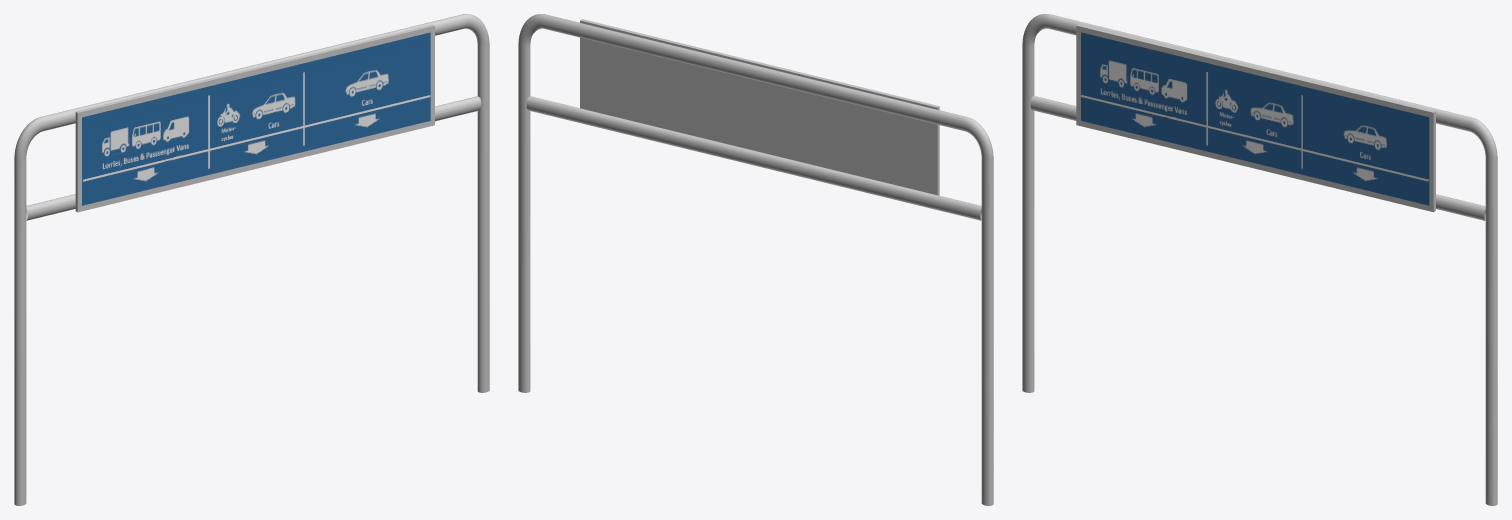
The model's file is overheadSignboard.fbx.
3 views of the same model, side by side, from view 1: azimuth 30°, elevation 25°; view 2: azimuth 150°, elevation 25°; view 3: azimuth 330°, elevation 25° (orthographic).
Parts seen in each view (by area): view 1: Overhead signboard; view 2: Overhead signboard; view 3: Overhead signboard.
Part boxes in pixels (box(x1,y1,x2,y2)): Overhead signboard: box(14, 14, 489, 505); Overhead signboard: box(518, 14, 993, 505); Overhead signboard: box(1022, 14, 1497, 505).
Bounding box in the file's own units: 1300 × 999 × 35.43.
3 materials, 1 textured.
